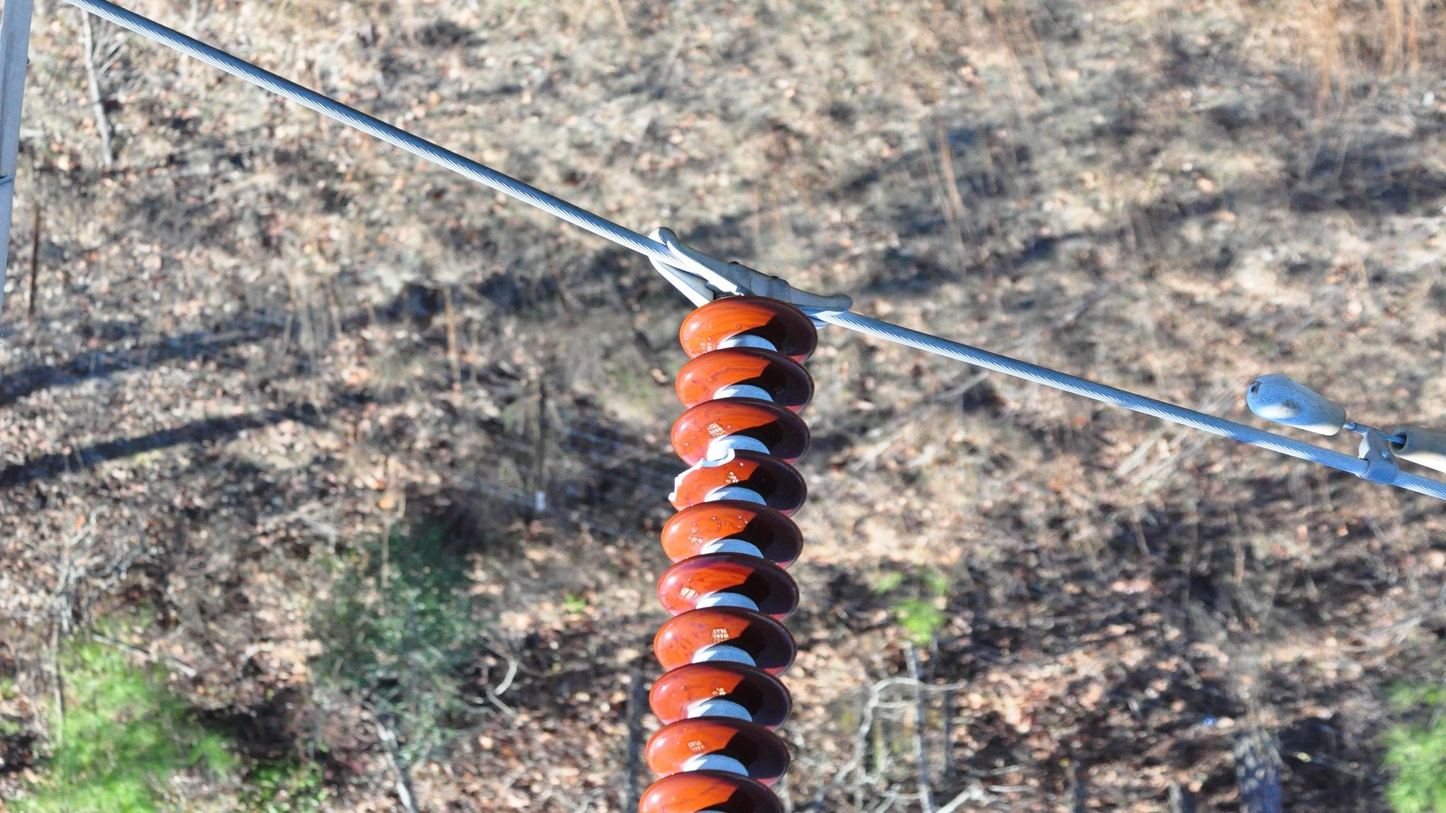insulator: (628, 290, 825, 813)
insulator_breakage: (664, 446, 739, 504)
